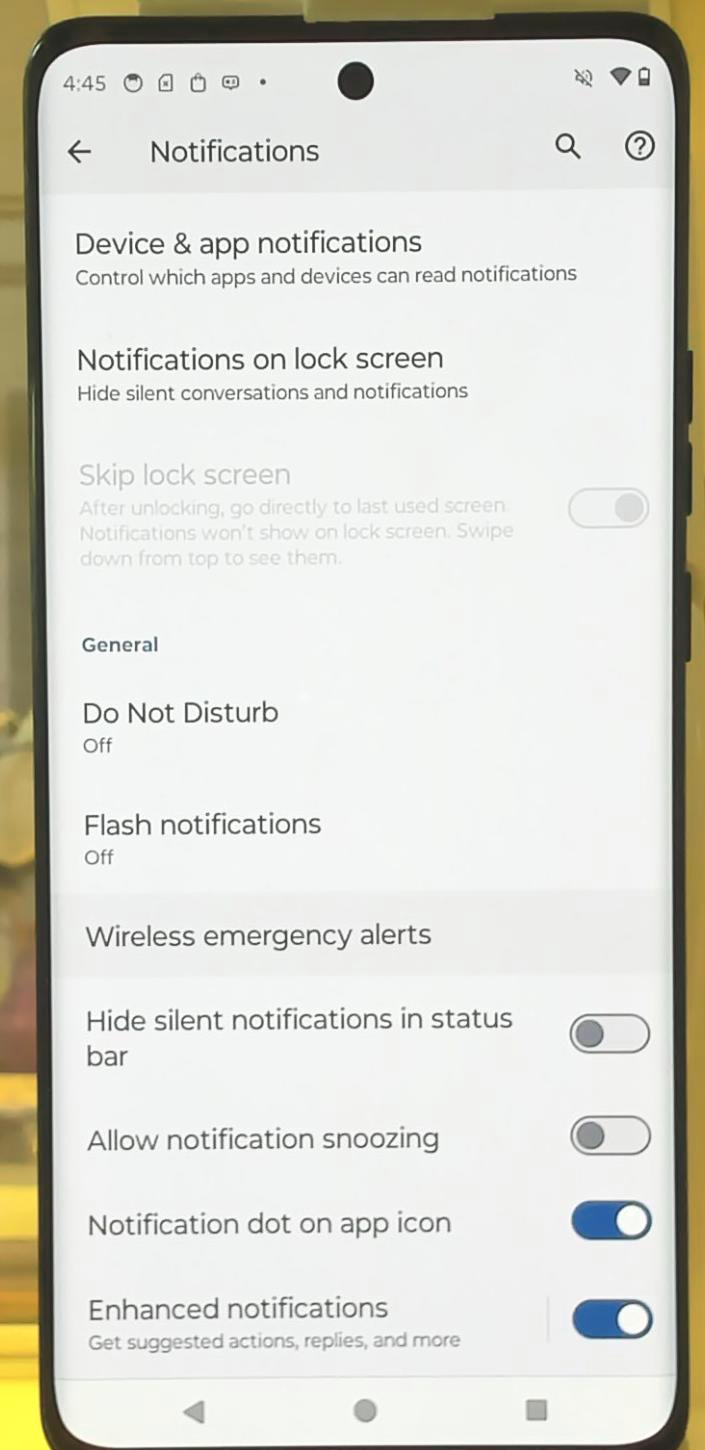Checkbox: (76, 997, 657, 1076), (78, 1284, 670, 1357), (78, 1096, 658, 1170), (76, 1191, 655, 1256)
